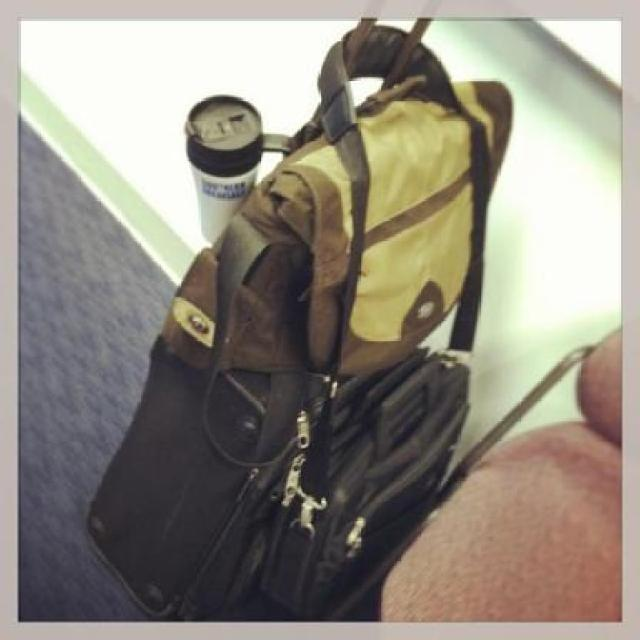backpack: (69, 14, 526, 621)
